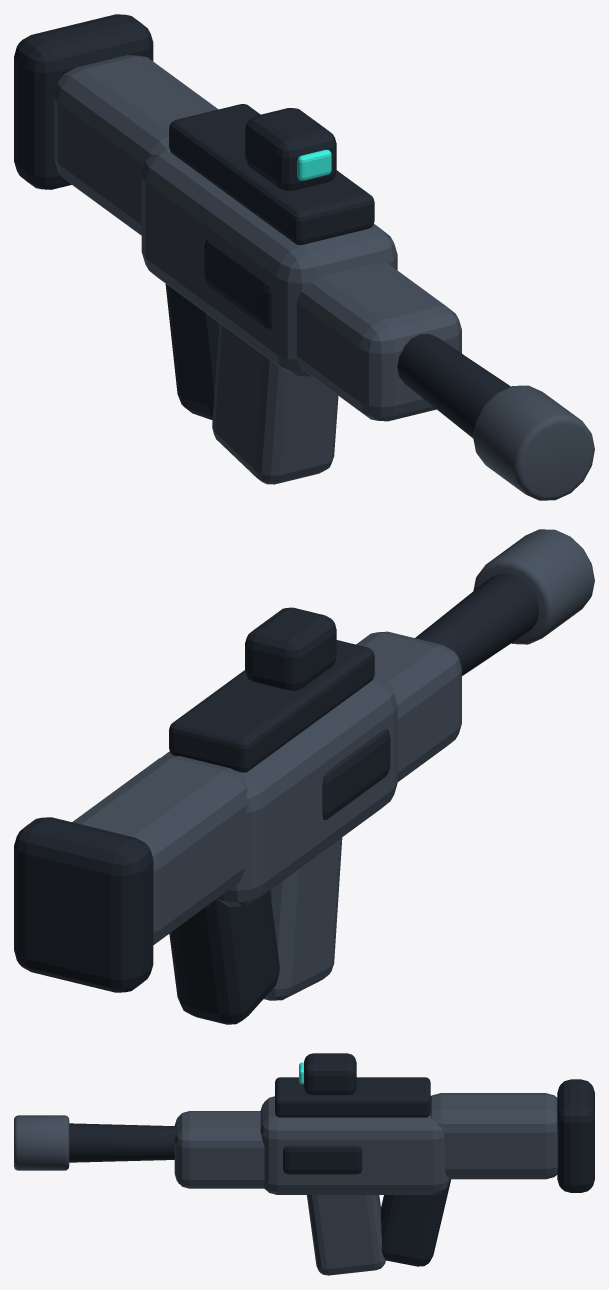
Rendered from HC_HunterRifle.fbx.
The picture shows the model from 3 angles, top to bottom: view 1: azimuth 30°, elevation 25°; view 2: azimuth 150°, elevation 25°; view 3: azimuth 270°, elevation 25°; orthographic projection. The views are drawn at different scales.
Visible parts, largest first — view 1: Receiver, Hand guard, Stock, Magazine, Top rail, Shoulder pad, Muzzle, Barrel, Sight, Grip, Receiver inset, Sight lens; view 2: Shoulder pad, Receiver, Stock, Top rail, Grip, Hand guard, Magazine, Muzzle, Barrel, Sight, Receiver inset; view 3: Receiver, Stock, Hand guard, Magazine, Top rail, Shoulder pad, Grip, Barrel, Muzzle, Receiver inset, Sight.
Part boxes in pixels (<box>): Receiver: <box>141,151,397,376</box>; Hand guard: <box>296,263,461,421</box>; Stock: <box>54,55,218,235</box>; Magazine: <box>212,323,338,484</box>; Top rail: <box>169,104,374,245</box>; Shoulder pad: <box>14,14,153,189</box>; Muzzle: <box>473,385,594,500</box>; Barrel: <box>397,334,510,438</box>; Sight: <box>245,108,336,190</box>; Grip: <box>165,284,219,420</box>; Receiver inset: <box>204,238,271,329</box>; Sight lens: <box>297,149,331,180</box>; Shoulder pad: <box>14,817,153,992</box>; Receiver: <box>161,677,397,906</box>; Stock: <box>72,756,247,944</box>; Top rail: <box>169,640,374,772</box>; Grip: <box>169,890,279,1024</box>; Hand guard: <box>356,631,461,781</box>; Magazine: <box>264,837,342,1000</box>; Muzzle: <box>473,529,594,644</box>; Barrel: <box>415,573,539,675</box>; Sight: <box>245,607,336,690</box>; Receiver inset: <box>322,729,390,819</box>; Receiver: <box>260,1095,449,1194</box>; Stock: <box>430,1093,557,1179</box>; Hand guard: <box>174,1111,264,1188</box>; Magazine: <box>307,1195,385,1275</box>; Top rail: <box>275,1077,430,1117</box>; Shoulder pad: <box>557,1079,594,1192</box>; Grip: <box>381,1179,450,1266</box>; Barrel: <box>69,1123,176,1162</box>; Muzzle: <box>14,1115,69,1170</box>; Receiver inset: <box>283,1145,362,1174</box>; Sight: <box>304,1053,356,1094</box>.
Size of the model in its own units: 17.1 by 46 by 116.
